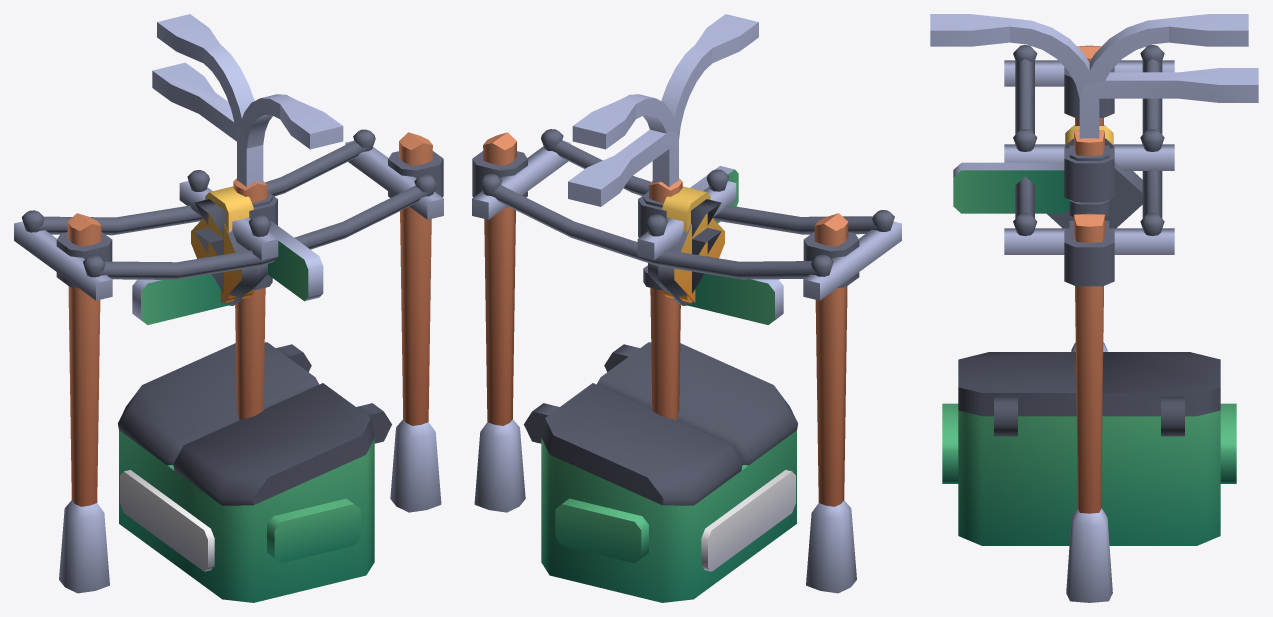
File: roads.glb
3 views of the same model, side by side, from view 1: azimuth 30°, elevation 25°; view 2: azimuth 150°, elevation 25°; view 3: azimuth 270°, elevation 25° (orthographic). The views are drawn at different scales.
Parts seen in each view (by area): view 1: electricity-pole, dumpster, lid-right, lid-left, electricity-pole-single, road-sign-street, light-curved-double, light-square, light-curved, electricity-wires, traffic-light, road-sign-warning; view 2: electricity-pole, dumpster, lid-left, lid-right, electricity-pole-single, light-curved-double, light-square, road-sign-street, electricity-wires, light-curved, traffic-light, road-sign-warning; view 3: dumpster, electricity-pole, light-curved-double, lid-right, lid-left, electricity-pole-single, light-square, road-sign-street, light-curved, road-sign-warning, electricity-wires, traffic-light.
Boxes of the visible parts, box(x1,y1,x2,y2) form: electricity-pole: box(14, 129, 443, 593); dumpster: box(119, 344, 391, 602); lid-right: box(173, 383, 374, 505); lid-left: box(118, 342, 319, 465); electricity-pole-single: box(179, 170, 278, 420); road-sign-street: box(132, 220, 323, 324); light-curved-double: box(157, 18, 343, 149); light-square: box(152, 62, 246, 186); light-curved: box(157, 14, 263, 186); electricity-wires: box(92, 185, 418, 279); traffic-light: box(194, 186, 272, 302); road-sign-warning: box(191, 213, 267, 305); electricity-pole: box(472, 129, 901, 593); dumpster: box(524, 344, 796, 602); lid-left: box(541, 383, 742, 505); lid-right: box(596, 342, 797, 465); electricity-pole-single: box(637, 169, 736, 420); light-curved-double: box(572, 14, 758, 149); light-square: box(568, 129, 678, 206); road-sign-street: box(647, 166, 783, 324); electricity-wires: box(498, 148, 878, 279); light-curved: box(573, 94, 678, 186); traffic-light: box(643, 186, 721, 302); road-sign-warning: box(648, 213, 724, 305); dumpster: box(942, 396, 1236, 545); electricity-pole: box(1004, 45, 1174, 602); light-curved-double: box(930, 14, 1247, 97); lid-right: box(958, 352, 1076, 416); lid-left: box(1102, 352, 1220, 416); electricity-pole-single: box(1004, 129, 1174, 201); light-square: box(1079, 68, 1258, 138); road-sign-street: box(953, 162, 1106, 226); light-curved: box(1080, 14, 1248, 96); road-sign-warning: box(1047, 163, 1142, 228); electricity-wires: box(1017, 59, 1159, 213); traffic-light: box(1065, 125, 1113, 227).
Size of the model in its own units: 0.5791 by 0.675 by 0.4125.
Materials: 1 (1 with a texture image).
